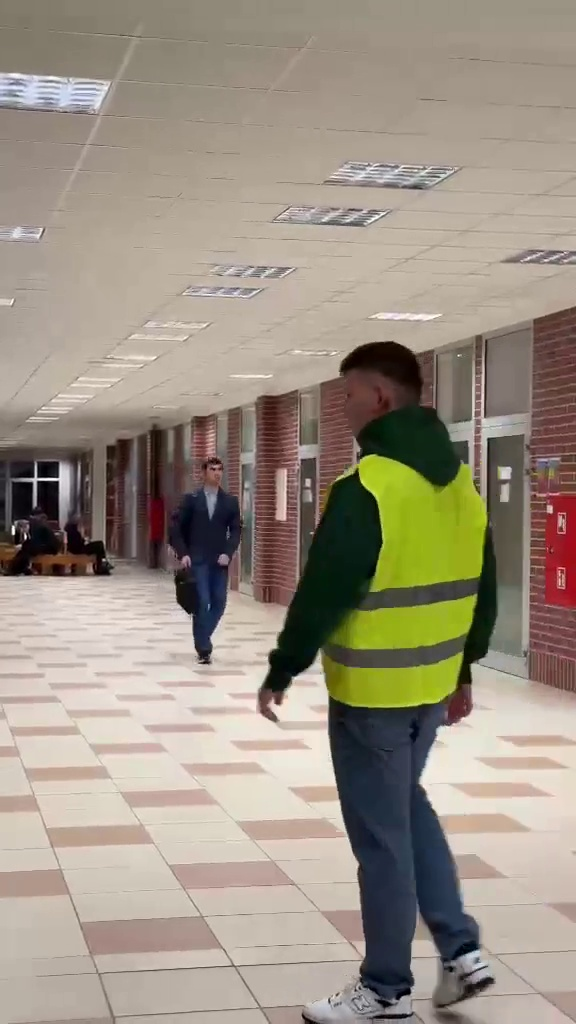no vest: (168, 455, 247, 676)
vest: (268, 335, 505, 1023)
